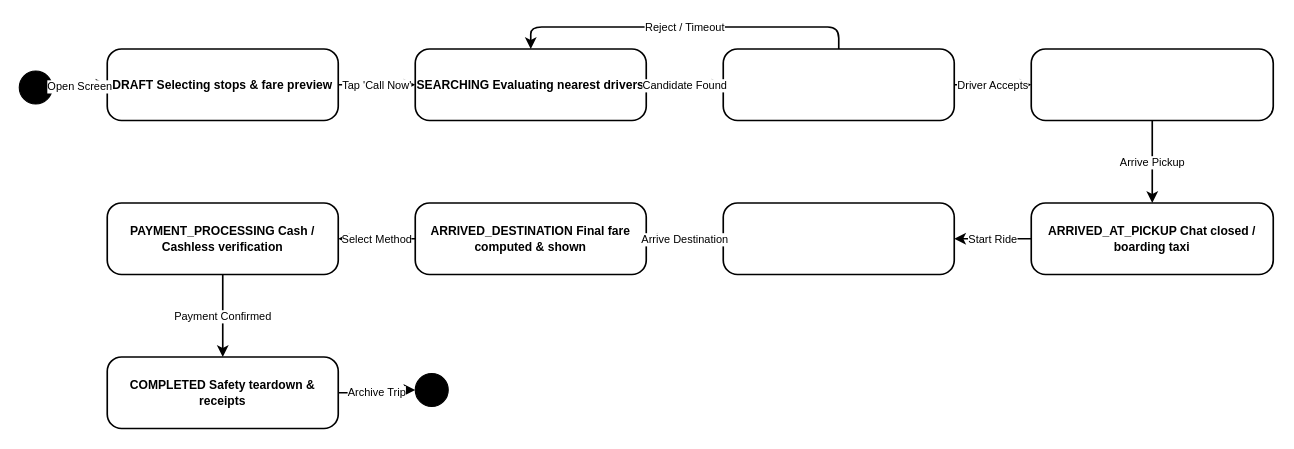
Some shapes in this 1294 by 449 pixel diagram are drawn without their labels. Each missing label, with the box of its shape:
ACCEPTED / ARRIVING En route to pickup & chat open: (1030, 48, 1274, 121)
DISPATCHED 15s Offer countdown timer: (722, 48, 955, 121)
IN_TRANSIT Guardian Live & CCTV Active: (722, 202, 955, 275)
